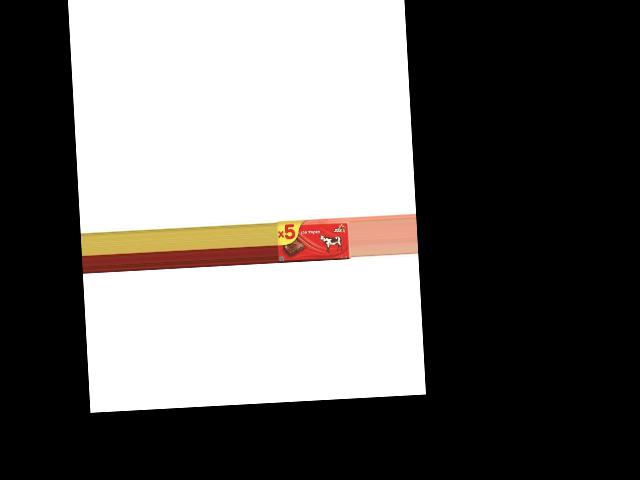chocolate: (276, 216, 352, 262)
